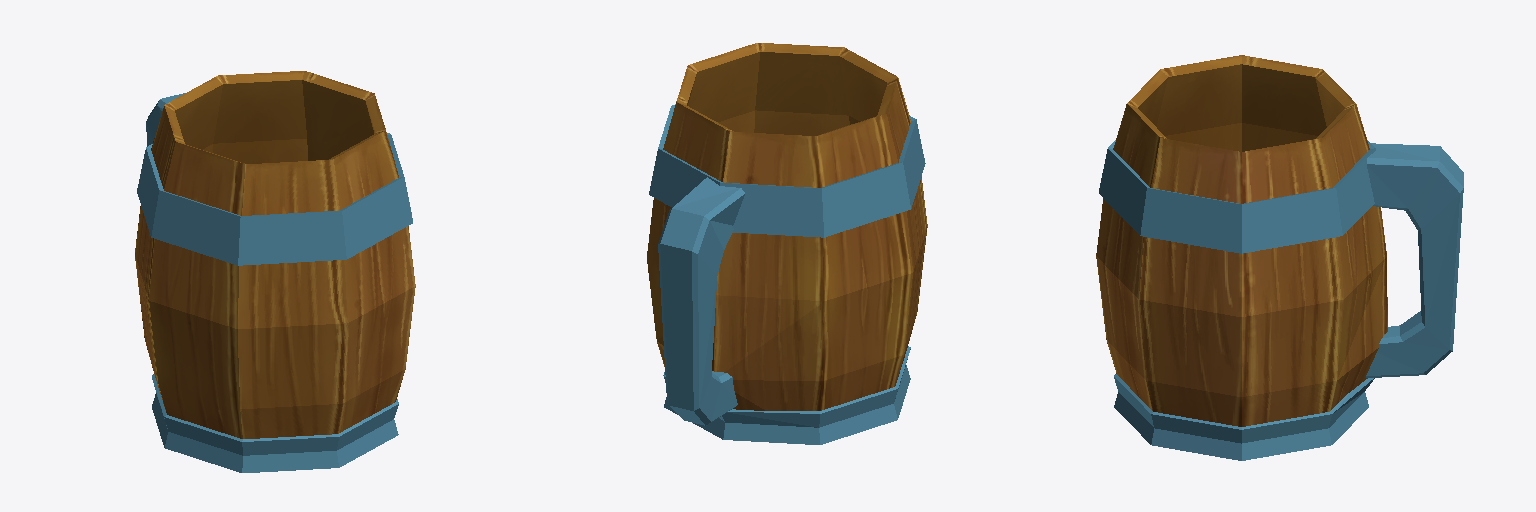
3 renders of one model, left to right at view 1: azimuth 30°, elevation 25°; view 2: azimuth 150°, elevation 25°; view 3: azimuth 270°, elevation 25°, orthographic.
Parts seen in each view (by area): view 1: Cylinder.001_Cylinder.002; view 2: Cylinder.001_Cylinder.002; view 3: Cylinder.001_Cylinder.002.
Part boxes in pixels (left/top/right/bottom): Cylinder.001_Cylinder.002: left=135, top=71, right=415, bottom=472; Cylinder.001_Cylinder.002: left=647, top=43, right=927, bottom=444; Cylinder.001_Cylinder.002: left=1096, top=55, right=1463, bottom=460.
Bounding box in the file's own units: 1.28 × 1.48 × 1.61.
2 materials, 1 textured.